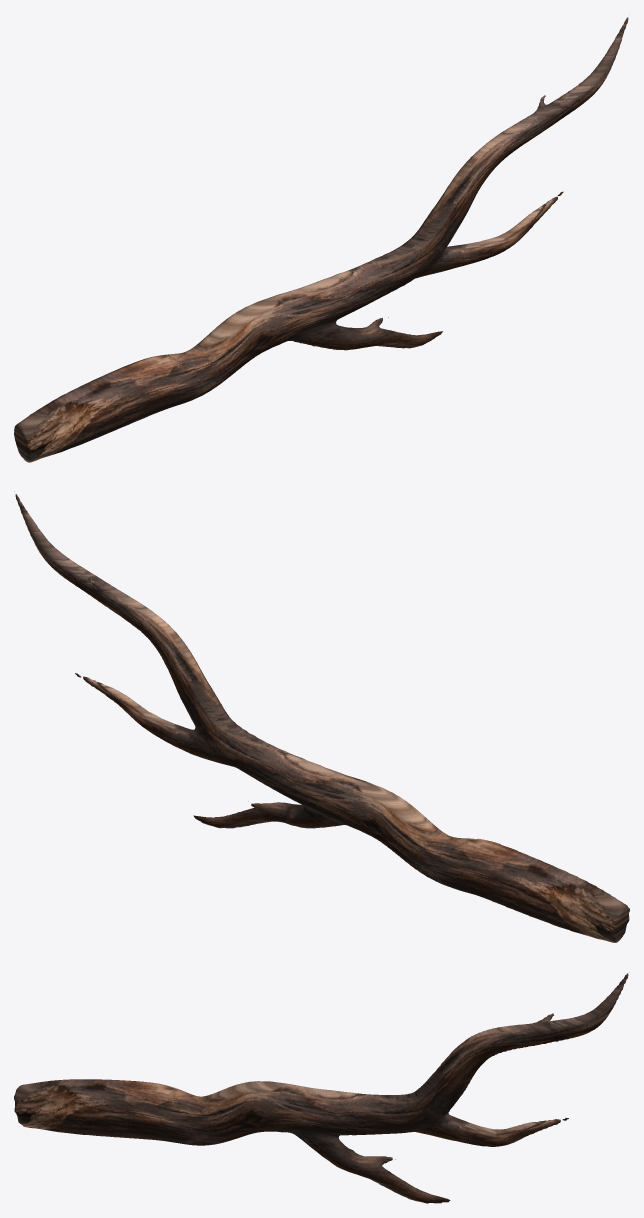
3 renders of one model, top to bottom at view 1: azimuth 30°, elevation 25°; view 2: azimuth 150°, elevation 25°; view 3: azimuth 330°, elevation 25°, orthographic.
Visible parts, largest first — view 1: RiverDriftwood_Forked; view 2: RiverDriftwood_Forked; view 3: RiverDriftwood_Forked.
Boxes of the visible parts, <box> form: RiverDriftwood_Forked: <box>14,14,629,462</box>; RiverDriftwood_Forked: <box>14,491,629,942</box>; RiverDriftwood_Forked: <box>14,971,629,1203</box>.
Bounding box in the file's own units: 3.7 × 1.75 × 0.2324.
1 material, 1 textured.
